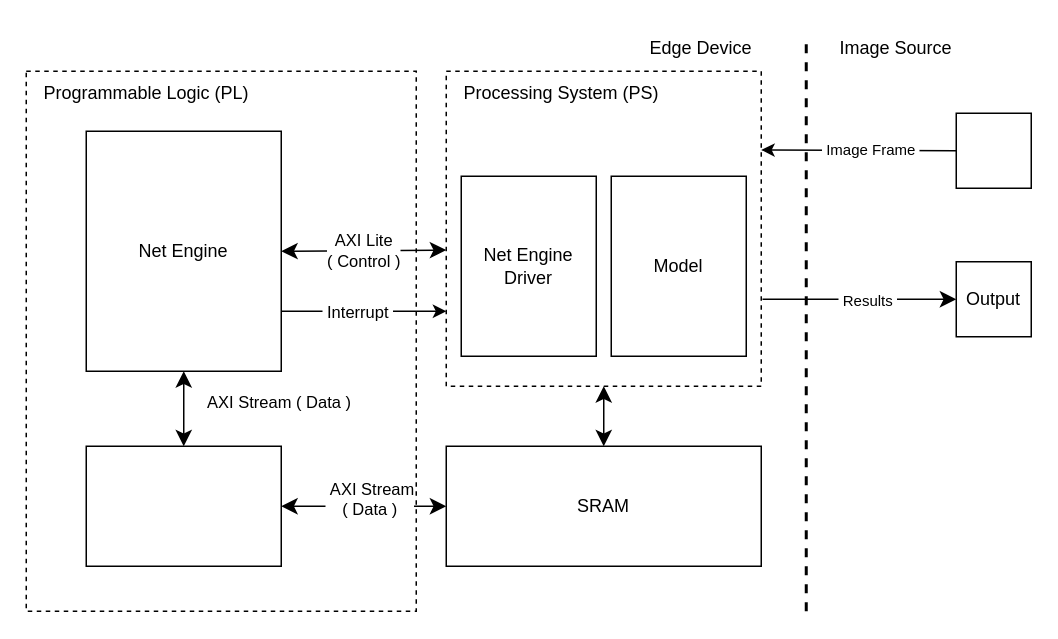
The diagram is 1058 pixels wide and 639 high, and some of its shapes have lost their labels. Each missing label, with the centre of its shape:
DMA Controller: the point at 183,505
Source: the point at 993,150
